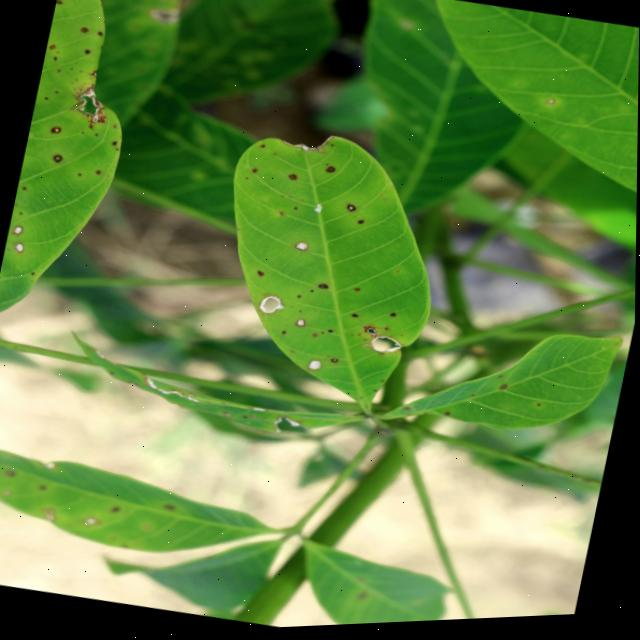Colletotrichum: (258, 295, 283, 320), (294, 244, 308, 255), (14, 242, 25, 254), (52, 154, 63, 165), (12, 225, 23, 236), (296, 321, 307, 331), (346, 206, 357, 216), (79, 26, 89, 35), (325, 169, 336, 177), (287, 176, 298, 184), (50, 127, 61, 135), (318, 286, 330, 293), (83, 50, 90, 56), (331, 361, 339, 366), (257, 273, 265, 278), (357, 223, 364, 228), (48, 45, 55, 50)
